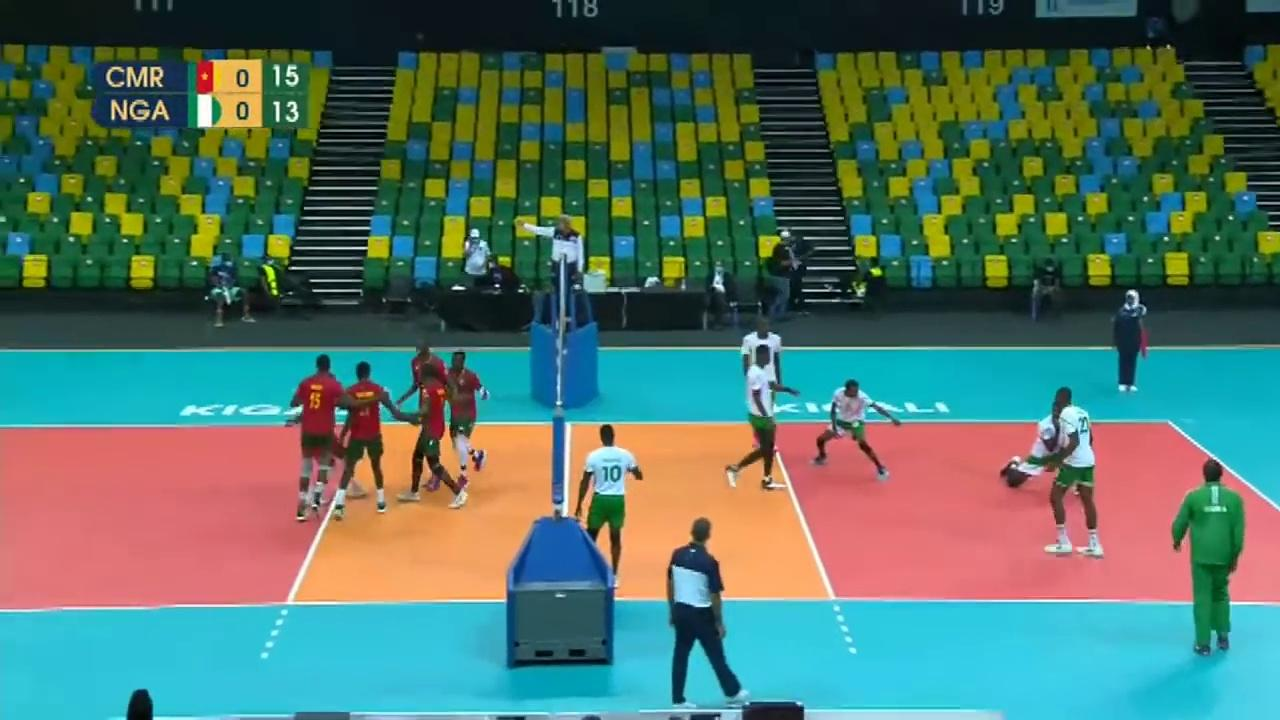player: (571, 418, 644, 585), (333, 362, 401, 515), (1044, 384, 1103, 559), (734, 343, 797, 499), (286, 358, 347, 519), (994, 402, 1099, 489), (407, 344, 462, 507), (813, 378, 895, 480), (444, 343, 494, 476), (407, 336, 449, 487), (741, 314, 784, 454)
refree: (666, 523, 752, 702), (544, 211, 585, 314), (1111, 290, 1147, 395)
